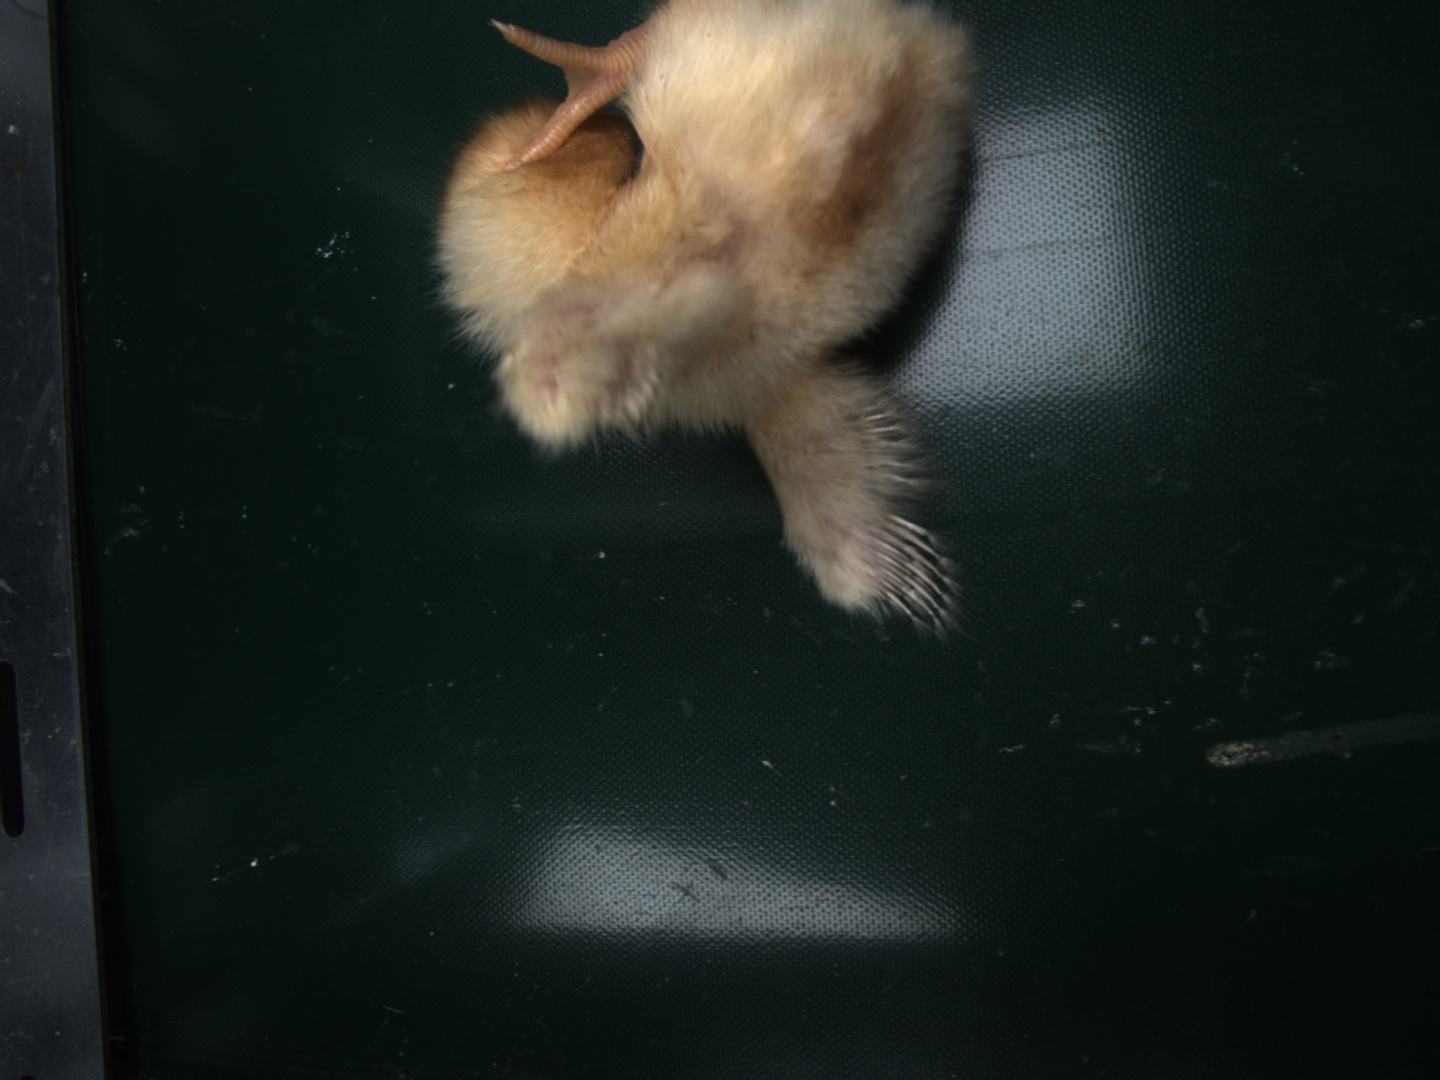female: (867, 511, 950, 627)
